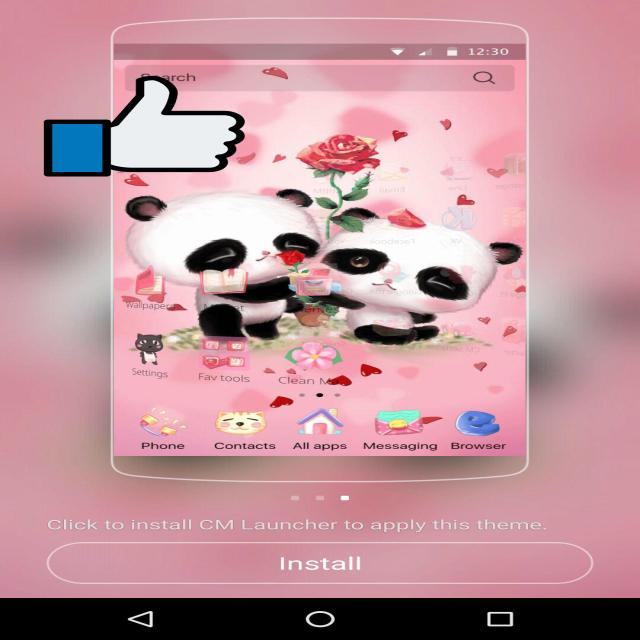privacy zuckering: (44, 74, 245, 178)
